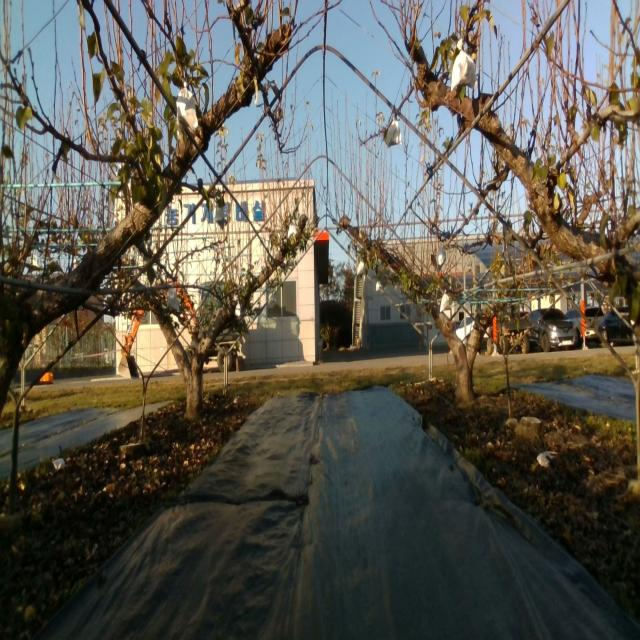pearbags: (450, 38, 477, 90), (174, 83, 198, 137), (386, 114, 402, 150), (166, 288, 180, 313), (213, 208, 226, 232), (440, 291, 451, 314)
